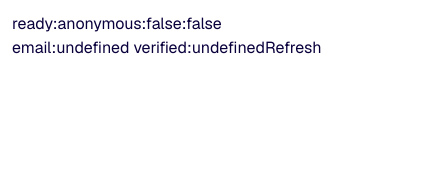
Test: keeps explicit refresh failures observable to the caller
Expected: the text "ready:anonymous:false:false" is shown, [12,13,222,34]
Click the button "Refresh": (293, 48) [265,36,322,60]
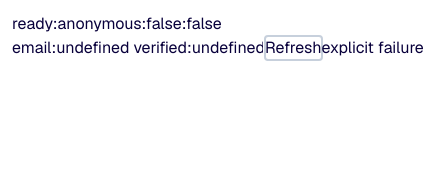
Expected: the text "ready:anonymous:false:false" is shown, [12,13,222,34]
Now the text "explicit failure" is shown, box [322,37,424,58]
